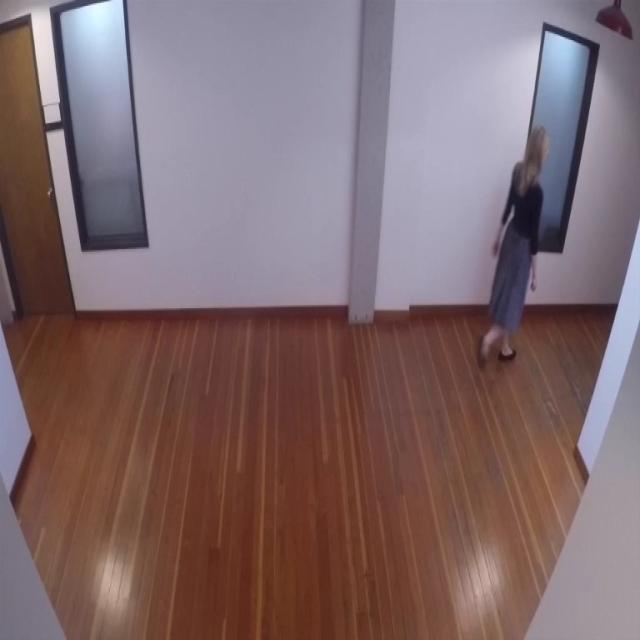Stupid: (477, 123, 549, 367)
